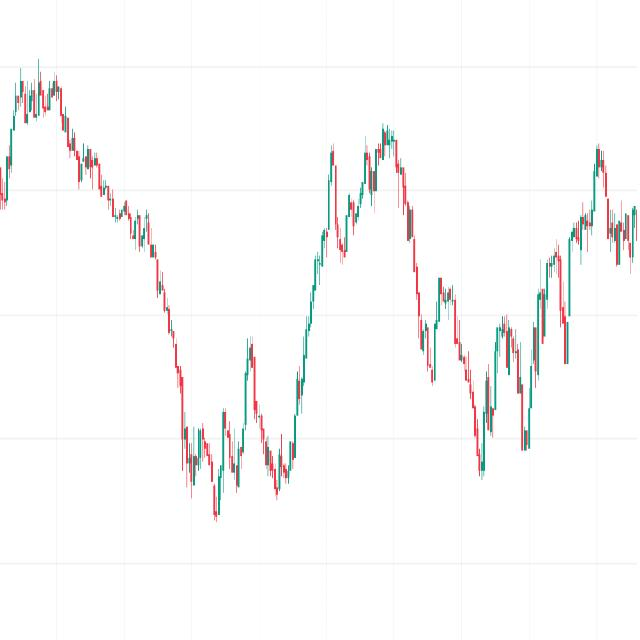Triple-Bottom: (182, 389, 252, 524)
